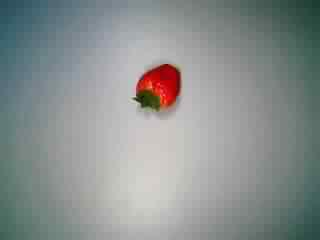strawberry: (123, 59, 191, 123)
